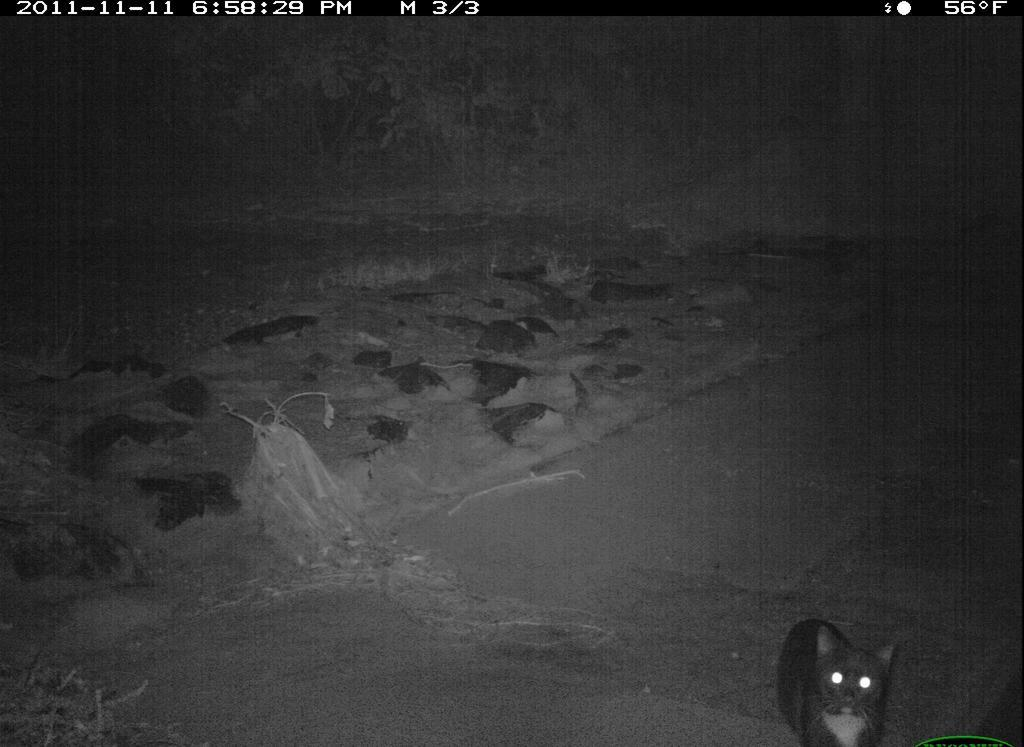cat: (763, 609, 908, 747)
